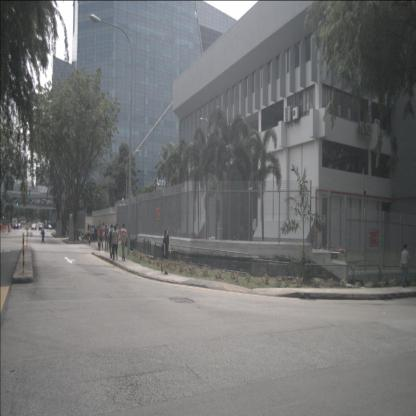human-pedestrian-adult: (161, 230, 171, 274), (401, 243, 410, 288), (107, 224, 116, 259), (120, 223, 128, 261), (111, 225, 119, 260), (114, 224, 120, 258), (97, 223, 104, 251), (103, 224, 109, 251), (40, 226, 46, 244), (89, 224, 93, 242), (91, 225, 95, 242), (87, 224, 90, 241)
vehicle-car: (31, 223, 36, 230), (39, 223, 44, 230), (17, 222, 22, 229)
vehicle-truck: (12, 218, 18, 230)
